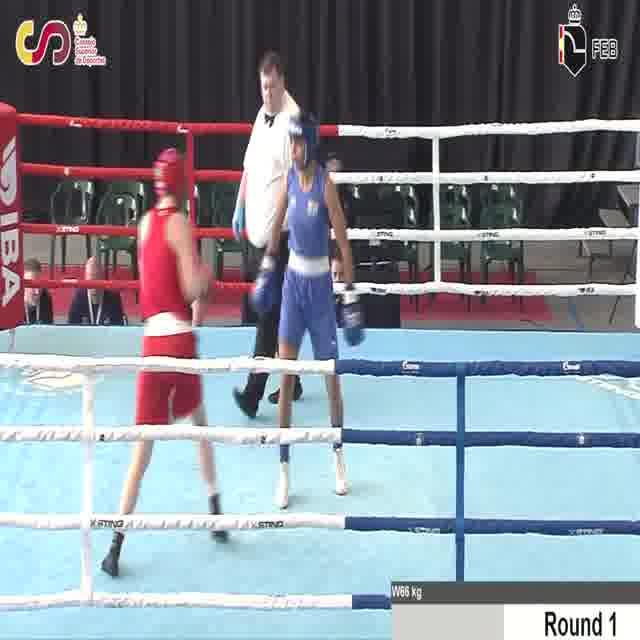blue-player: (249, 112, 368, 512)
red-player: (97, 148, 230, 578)
referee: (232, 47, 306, 422)
